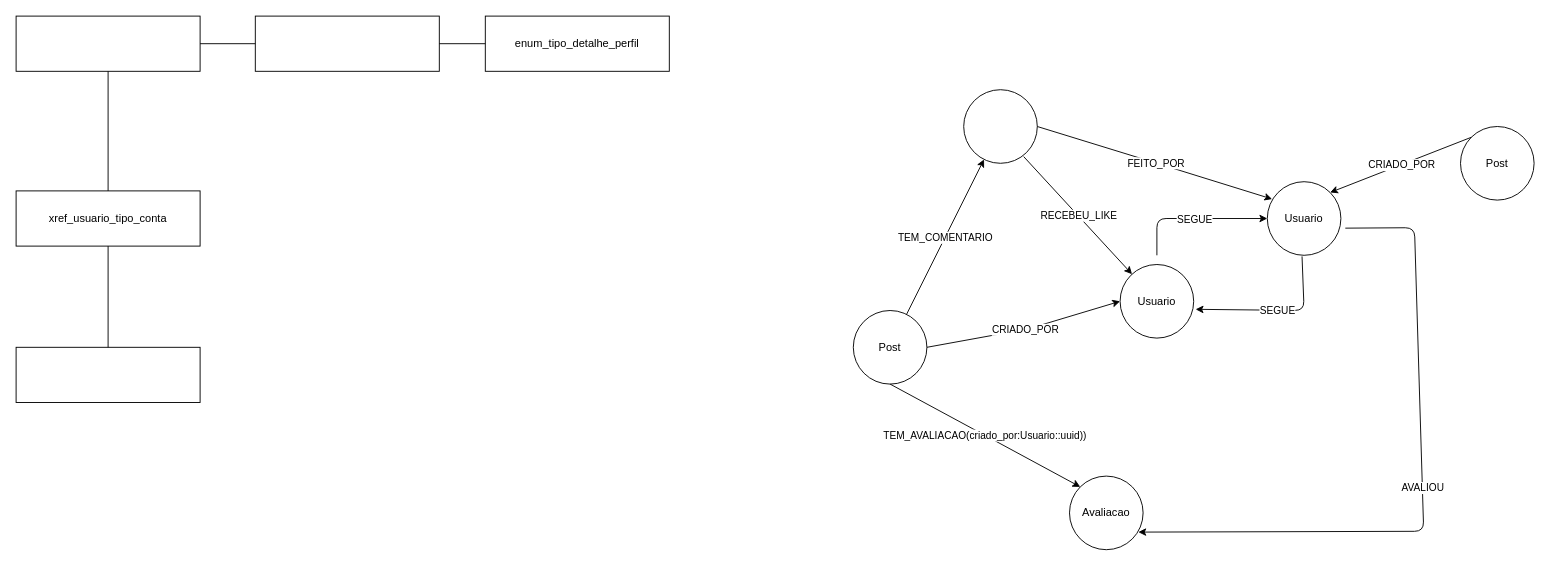
Image size: 1550x566. Some labels were removed from this diagram. The centre of each missing label's shape, as x and y in pixels:
"Comentario" goes at point 1000,126.
"enum_tipo_conta" goes at point 107,374.
"t_detalhes_perfil" goes at point 346,43.
"t_usuario" goes at point 107,43.
